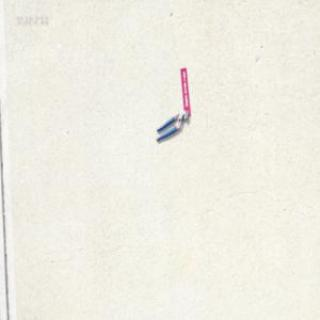LuggageTagtrack_idkeyframe: (178, 66, 190, 114)
Pliertrack_idkeyframe: (154, 109, 187, 141)
